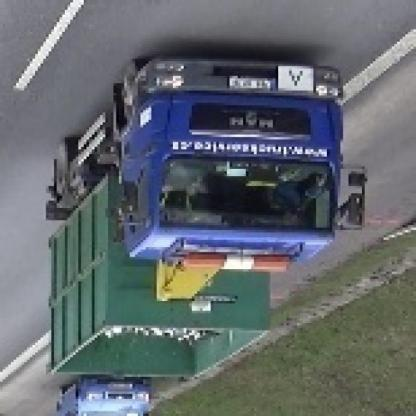truck: (42, 55, 369, 380)
